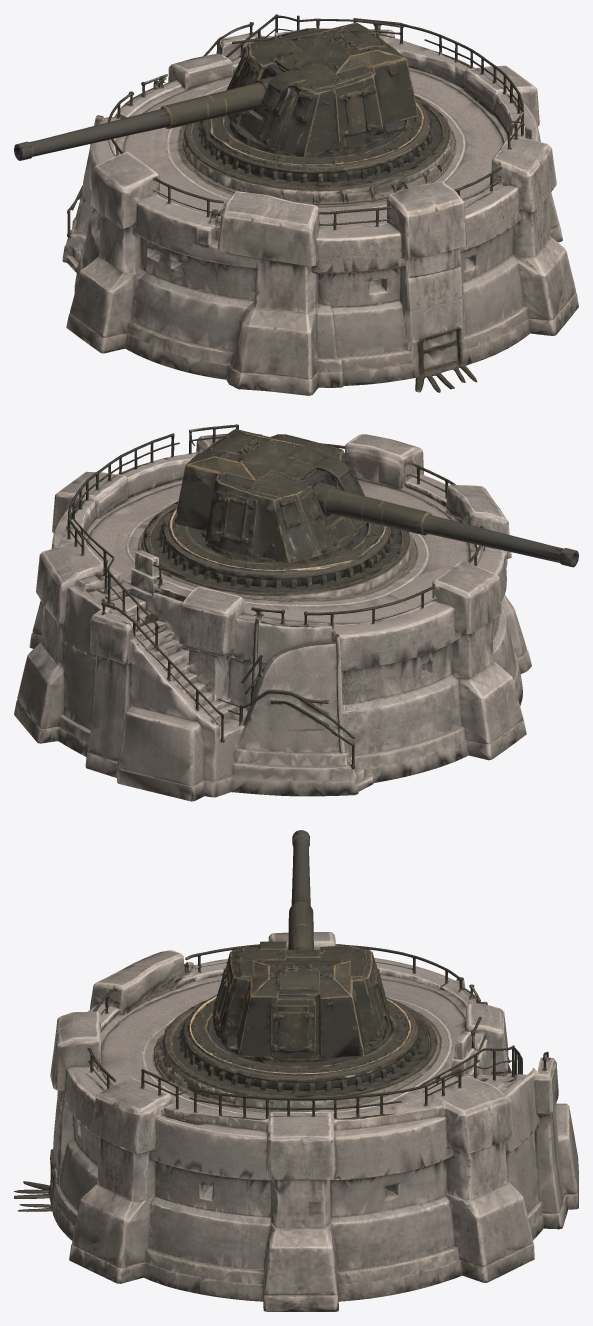
File: gun_turret.glb
The picture shows the model from 3 angles, top to bottom: view 1: azimuth 30°, elevation 25°; view 2: azimuth 150°, elevation 25°; view 3: azimuth 270°, elevation 25°; orthographic projection. The views are drawn at different scales.
Parts seen in each view (by area): view 1: gun_turret; view 2: gun_turret; view 3: gun_turret.
Boxes of the visible parts, x1=… form: gun_turret: x1=14, y1=14, x2=578, y2=395; gun_turret: x1=14, y1=424, x2=578, y2=801; gun_turret: x1=14, y1=830, x2=578, y2=1311.
Bounding box in the file's own units: 1.9 × 0.8336 × 1.71.
1 material, 1 textured.
